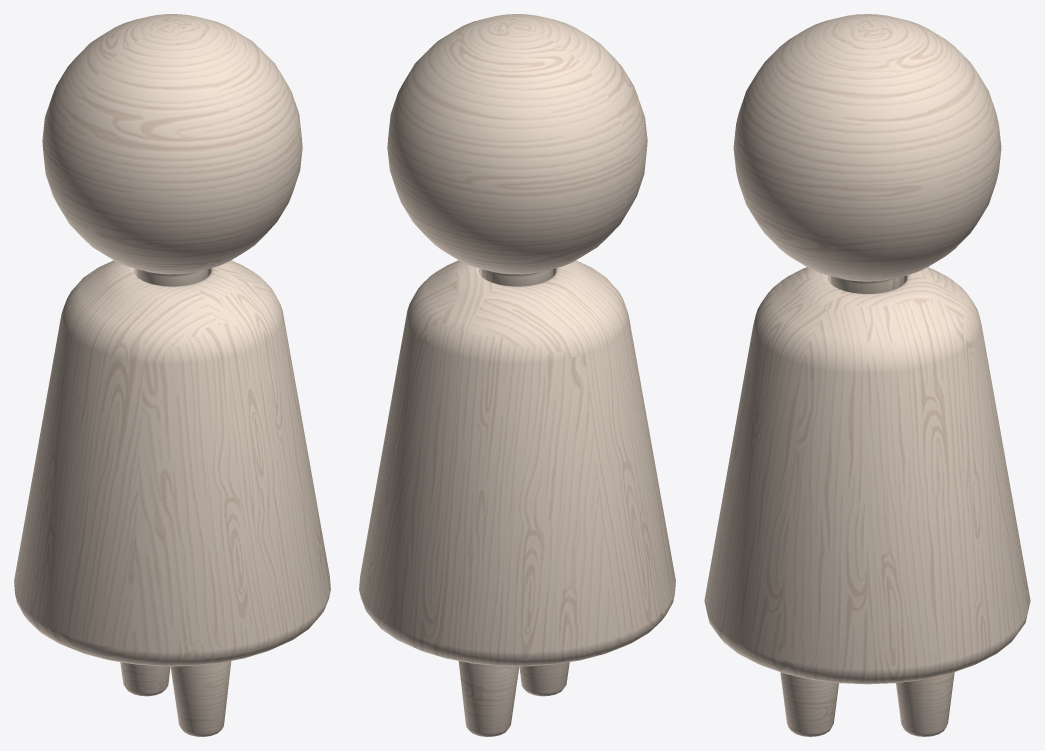
The model's file is Person.fbx.
The picture shows the model from 3 angles, left to right: view 1: azimuth 30°, elevation 25°; view 2: azimuth 150°, elevation 25°; view 3: azimuth 270°, elevation 25°; orthographic projection. The views are drawn at different scales.
Parts seen in each view (by area): view 1: Body, Head, Legs; view 2: Body, Head, Legs; view 3: Body, Head, Legs.
Boxes of the visible parts, bbox=[...] form: Body: bbox=[14, 260, 330, 666]; Head: bbox=[42, 14, 302, 286]; Legs: bbox=[120, 661, 231, 736]; Body: bbox=[359, 260, 675, 666]; Head: bbox=[387, 14, 647, 286]; Legs: bbox=[458, 661, 569, 736]; Body: bbox=[704, 267, 1030, 684]; Head: bbox=[733, 14, 1001, 293]; Legs: bbox=[780, 672, 954, 736].
Size of the model in its own units: 128 by 305 by 128.
